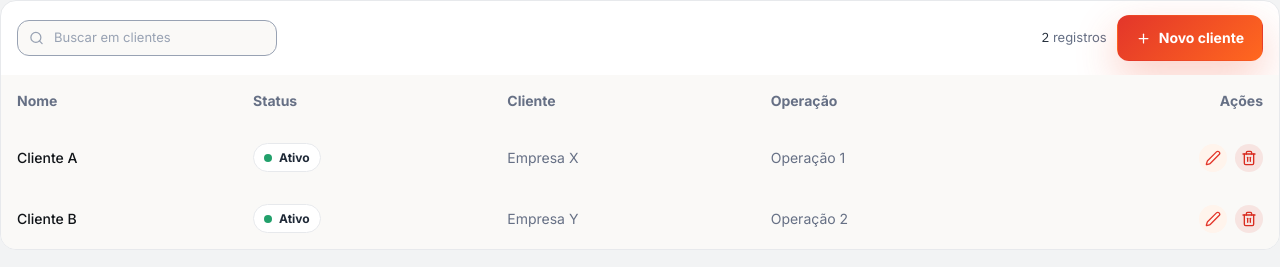
Test: CrudPage › filtra a lista pela busca
Type "Cliente A" into the search field named "Buscar Clientes" at (147, 38), box [17,20,277,56]
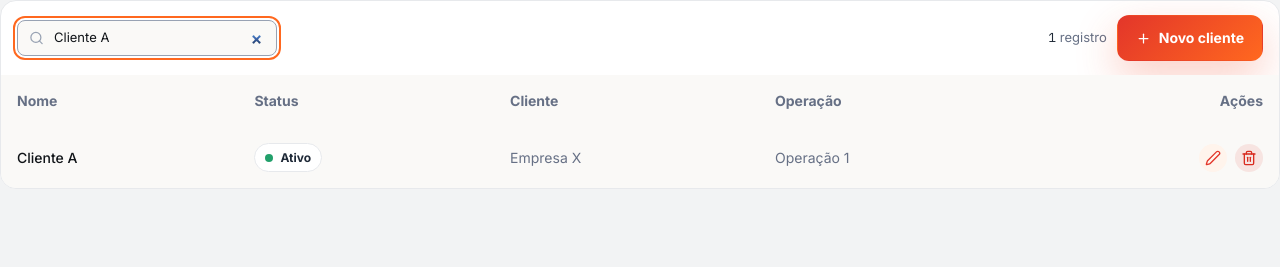
Expected: the text "Cliente A" is shown, [1,127,238,188]
Expected: the text "Cliente B" is gone
